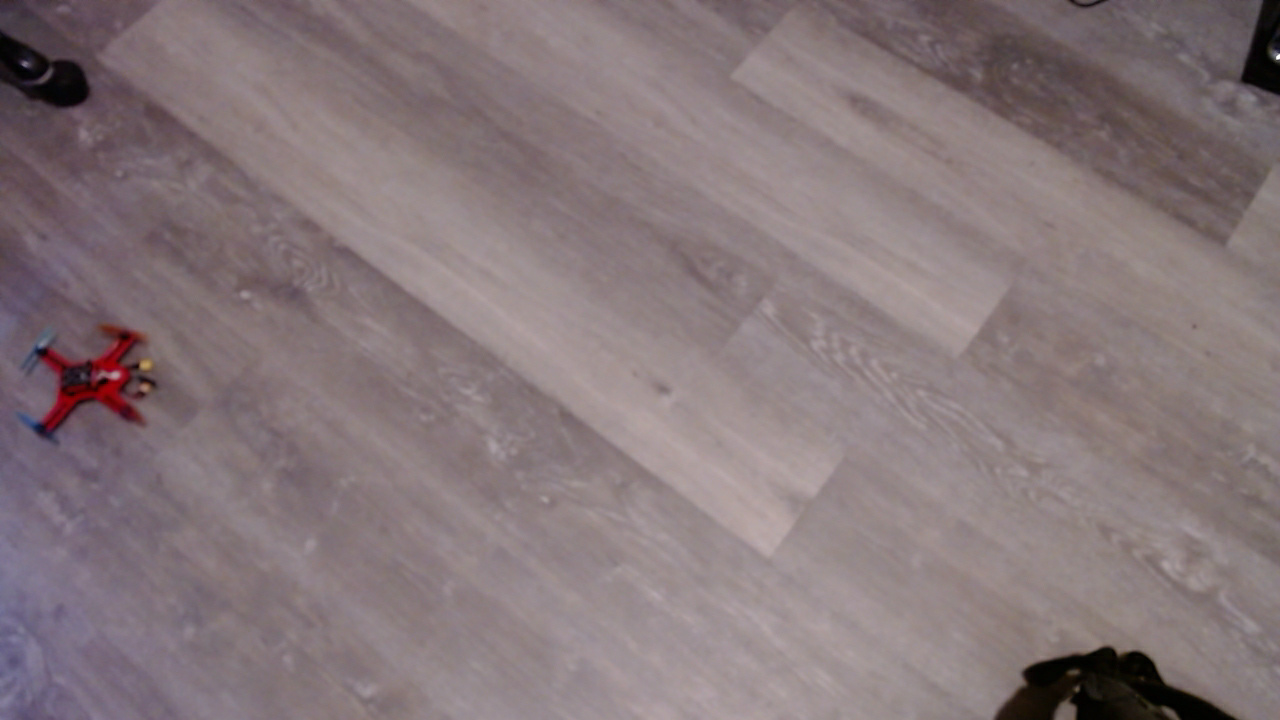crazyflie: (22, 315, 166, 445)
